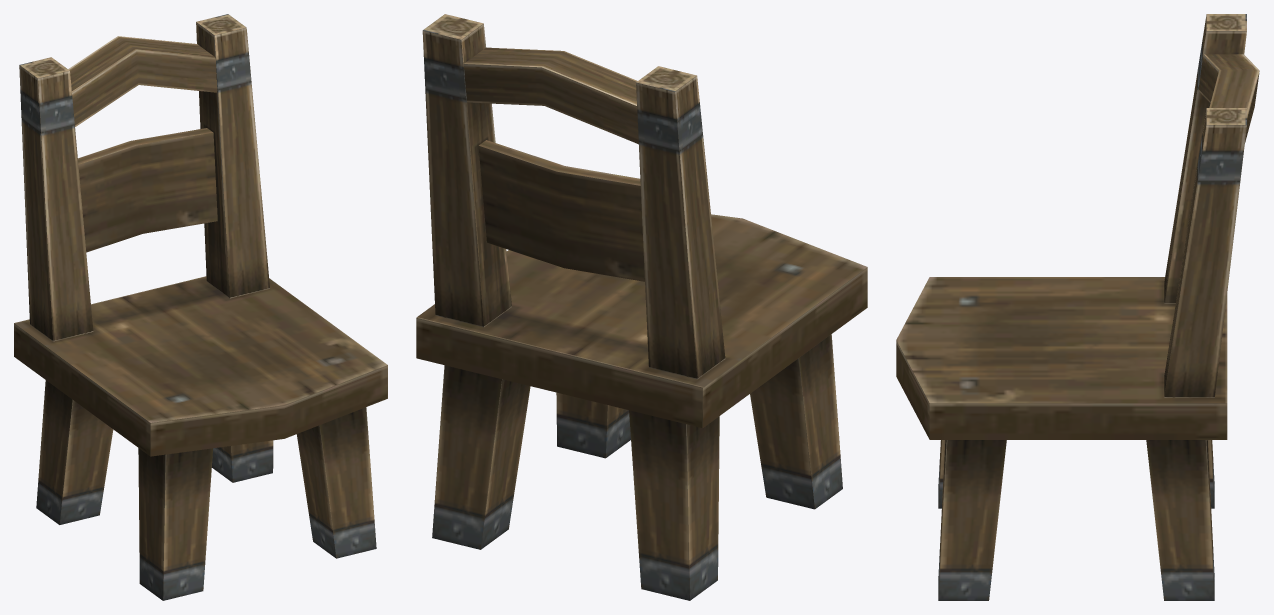
File: chair.fbx
The picture shows the model from 3 angles, left to right: view 1: azimuth 30°, elevation 25°; view 2: azimuth 150°, elevation 25°; view 3: azimuth 270°, elevation 25°; orthographic projection. The views are drawn at different scales.
Visible parts, largest first — view 1: 17_-_Default; view 2: 17_-_Default; view 3: 17_-_Default.
Boxes of the visible parts, x1,y1,x2,y2 form: 17_-_Default: (14, 14, 387, 600); 17_-_Default: (416, 14, 867, 600); 17_-_Default: (896, 14, 1259, 600).
Bounding box in the file's own units: 0.7392 × 1.29 × 0.8983.
